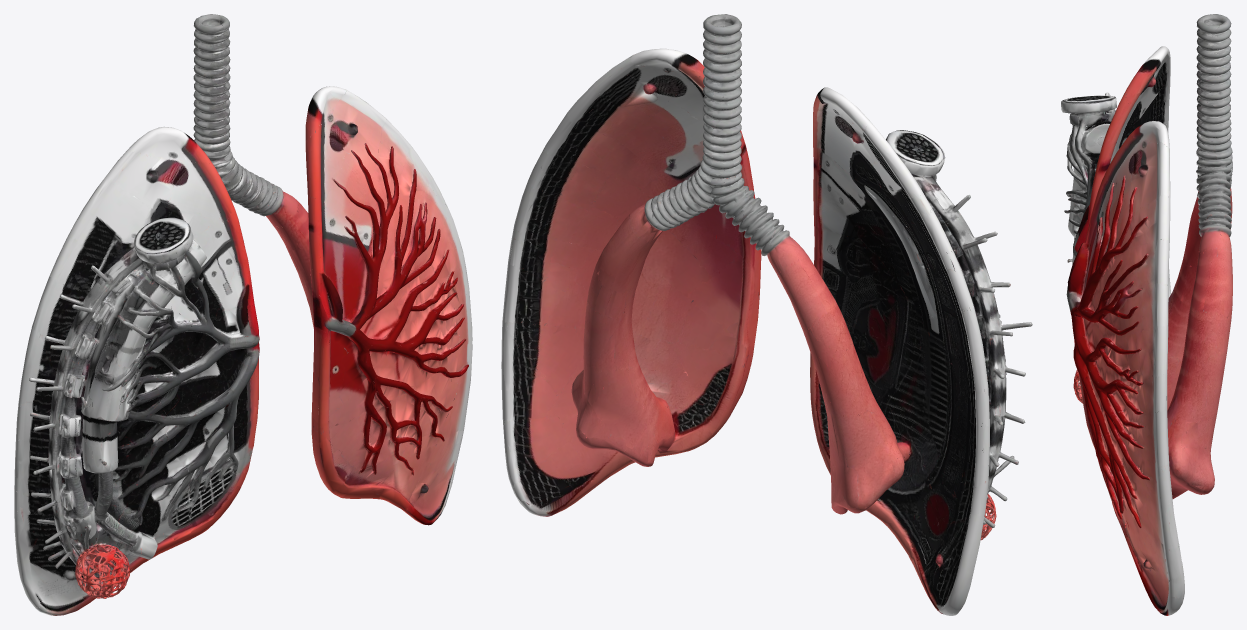
The model's file is lungs-red-hybrid.glb.
The picture shows the model from 3 angles, left to right: view 1: azimuth 30°, elevation 25°; view 2: azimuth 150°, elevation 25°; view 3: azimuth 270°, elevation 25°; orthographic projection. The views are drawn at different scales.
Visible parts, largest first — view 1: Mesh_0; view 2: Mesh_0; view 3: Mesh_0.
Boxes of the visible parts, <box> form: Mesh_0: <box>14,14,472,615</box>; Mesh_0: <box>501,14,1032,615</box>; Mesh_0: <box>1061,14,1232,615</box>.
Bounding box in the file's own units: 1.74 × 1.9 × 0.5863.
1 material, 1 textured.
